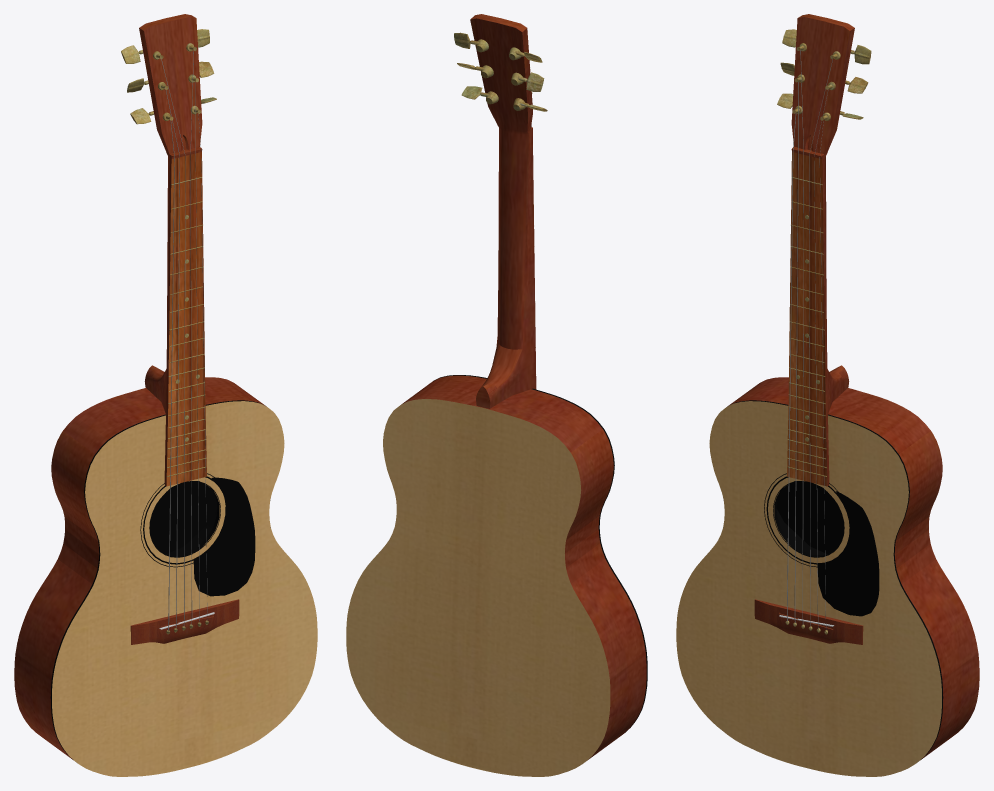
3 renders of one model, left to right at view 1: azimuth 30°, elevation 25°; view 2: azimuth 150°, elevation 25°; view 3: azimuth 330°, elevation 25°, orthographic.
Parts seen in each view (by area): view 1: body, fretboard/neck/brifge, Plane, strings, fretboard/neck/brifge.001, tuner, fretbroarpins; view 2: body, fretboard/neck/brifge, tuner; view 3: body, fretboard/neck/brifge, Plane, strings, fretboard/neck/brifge.001, tuner, fretbroarpins.
Boxes of the visible parts, <box> form: body: <box>14,377,317,776</box>; fretboard/neck/brifge: <box>130,14,214,644</box>; Plane: <box>193,477,255,596</box>; strings: <box>161,51,207,630</box>; fretboard/neck/brifge.001: <box>131,599,239,644</box>; tuner: <box>121,29,216,124</box>; fretbroarpins: <box>167,177,206,476</box>; body: <box>346,375,647,776</box>; fretboard/neck/brifge: <box>470,14,536,408</box>; tuner: <box>454,32,547,111</box>; body: <box>676,377,979,776</box>; fretboard/neck/brifge: <box>779,14,863,644</box>; Plane: <box>817,491,879,616</box>; strings: <box>787,50,832,629</box>; fretboard/neck/brifge.001: <box>754,599,862,644</box>; tuner: <box>777,29,871,120</box>; fretbroarpins: <box>787,177,826,476</box>.
Bounding box in the file's own units: 40.52 × 107 × 11.3.
8 materials, 5 textured.
